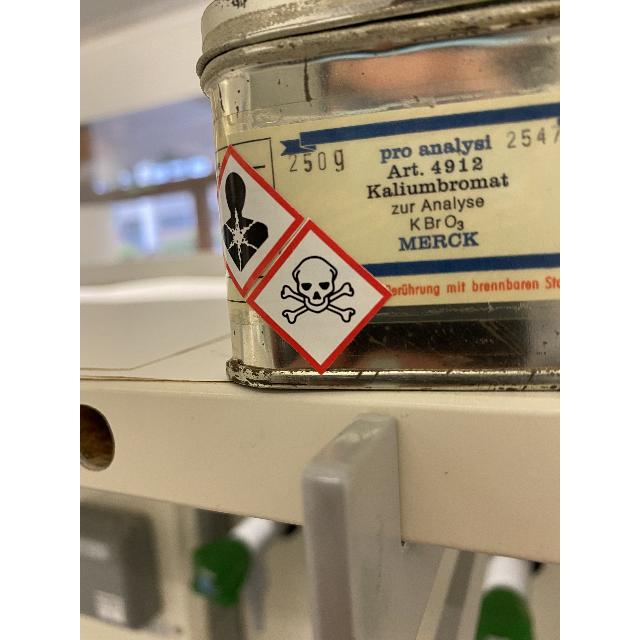acute toxicity: (245, 218, 393, 376)
serious health hazard: (214, 143, 302, 295)
